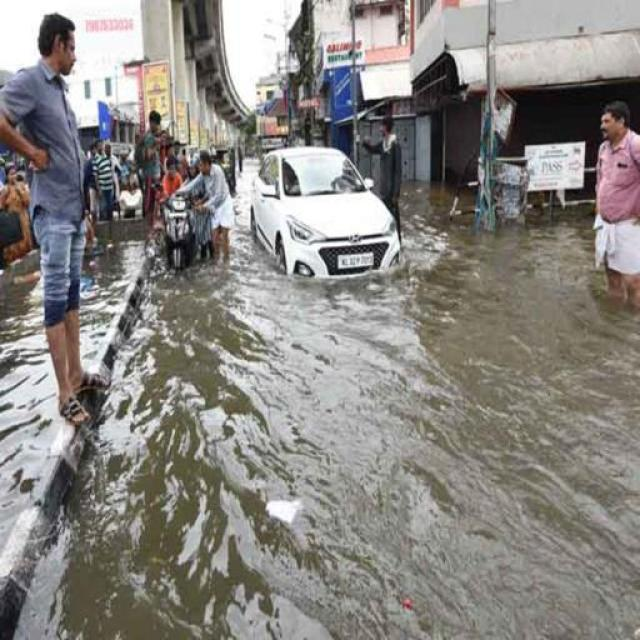puddle: (111, 321, 625, 633), (418, 223, 592, 637), (155, 273, 290, 640)
